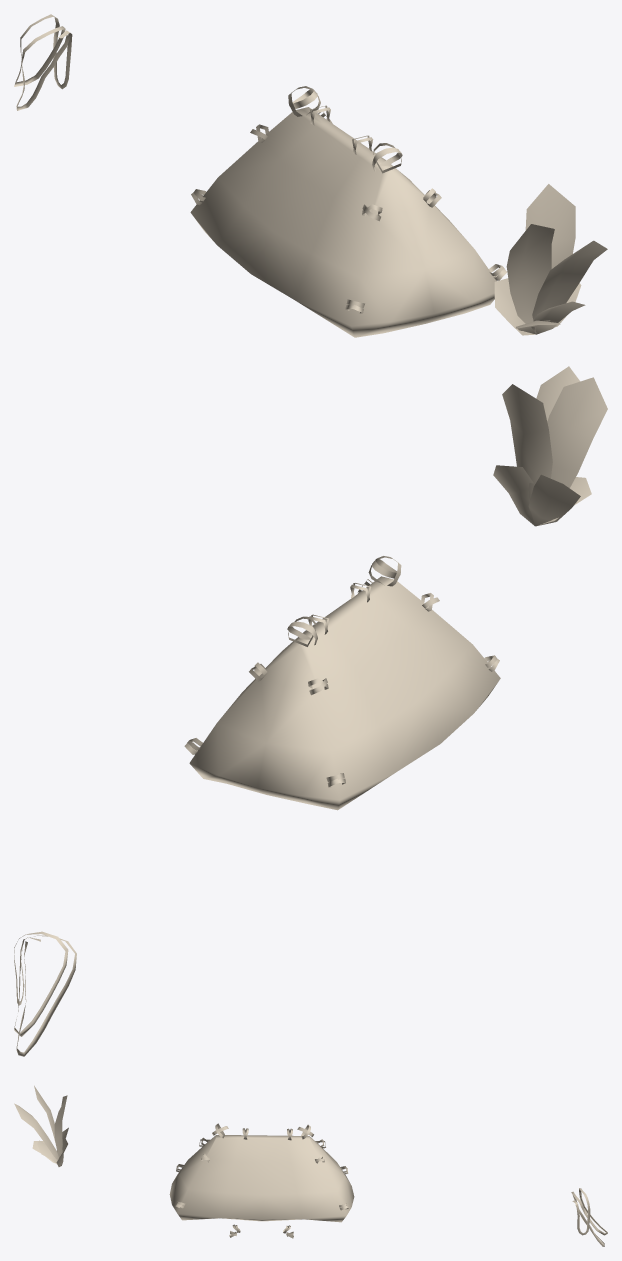
File: ropes-base.glb
3 views of the same model, one above another, from view 1: azimuth 30°, elevation 25°; view 2: azimuth 150°, elevation 25°; view 3: azimuth 270°, elevation 25° (orthographic). The views are drawn at different scales.
Bounding box in the file's own units: 1.41 × 2.09 × 7.21.
